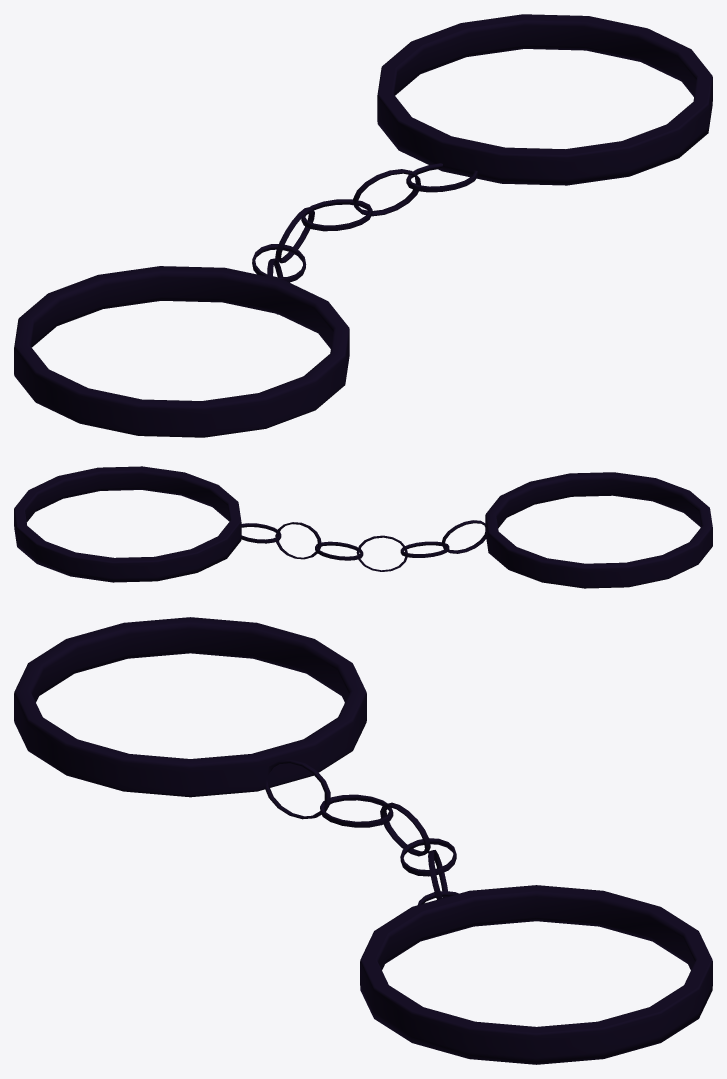
Rendered from Cuffs.glb.
The picture shows the model from 3 angles, top to bottom: view 1: azimuth 30°, elevation 25°; view 2: azimuth 150°, elevation 25°; view 3: azimuth 270°, elevation 25°; orthographic projection. The views are drawn at different scales.
Parts seen in each view (by area): view 1: Cylinder.007; view 2: Cylinder.007; view 3: Cylinder.007.
Part boxes in pixels (x1,y1,x2,y2): Cylinder.007: (14,14,712,437); Cylinder.007: (14,466,712,588); Cylinder.007: (14,617,712,1064).
Size of the model in its own units: 5.06 by 0.3097 by 3.57.
